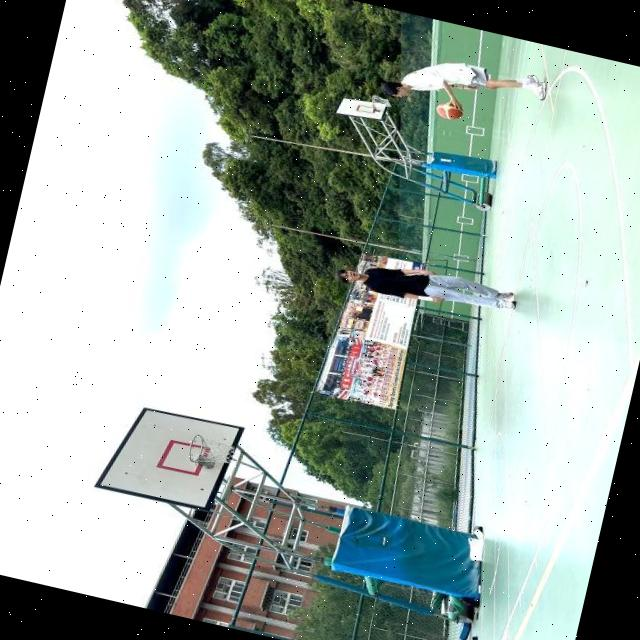ball: (437, 101, 462, 120)
hoop: (184, 428, 209, 466), (369, 90, 379, 111)
